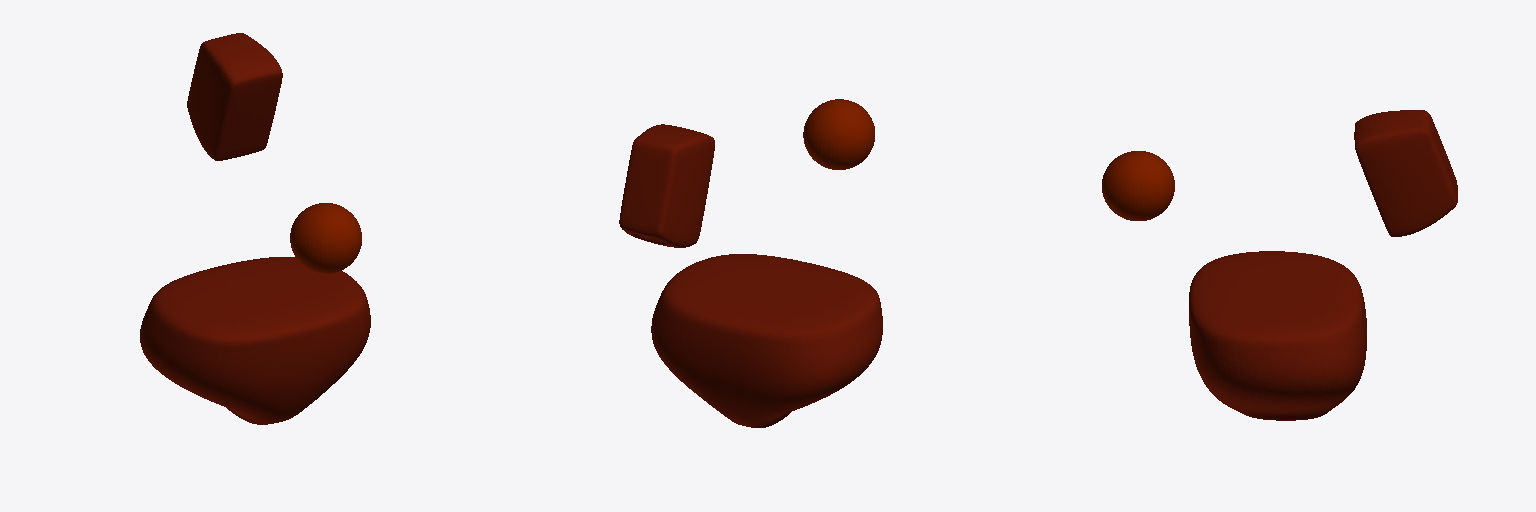
Rendered from bot.obj.
3 views of the same model, side by side, from view 1: azimuth 30°, elevation 25°; view 2: azimuth 150°, elevation 25°; view 3: azimuth 270°, elevation 25° (orthographic).
Visible parts, largest first — view 1: bot1:Mesh, midside:MeshpolySurface46, midside:MeshpolySurface23; view 2: bot1:Mesh, midside:MeshpolySurface46, midside:MeshpolySurface23; view 3: bot1:Mesh, midside:MeshpolySurface46, midside:MeshpolySurface23.
Boxes of the visible parts, x1=… form: bot1:Mesh: x1=140, y1=257, x2=370, y2=424; midside:MeshpolySurface46: x1=187, y1=33, x2=282, y2=160; midside:MeshpolySurface23: x1=290, y1=203, x2=361, y2=273; bot1:Mesh: x1=651, y1=254, x2=882, y2=427; midside:MeshpolySurface46: x1=619, y1=124, x2=714, y2=247; midside:MeshpolySurface23: x1=803, y1=99, x2=874, y2=169; bot1:Mesh: x1=1189, y1=251, x2=1366, y2=420; midside:MeshpolySurface46: x1=1354, y1=110, x2=1457, y2=236; midside:MeshpolySurface23: x1=1102, y1=151, x2=1174, y2=220.
Size of the model in its own units: 0.516 by 0.7709 by 0.793.